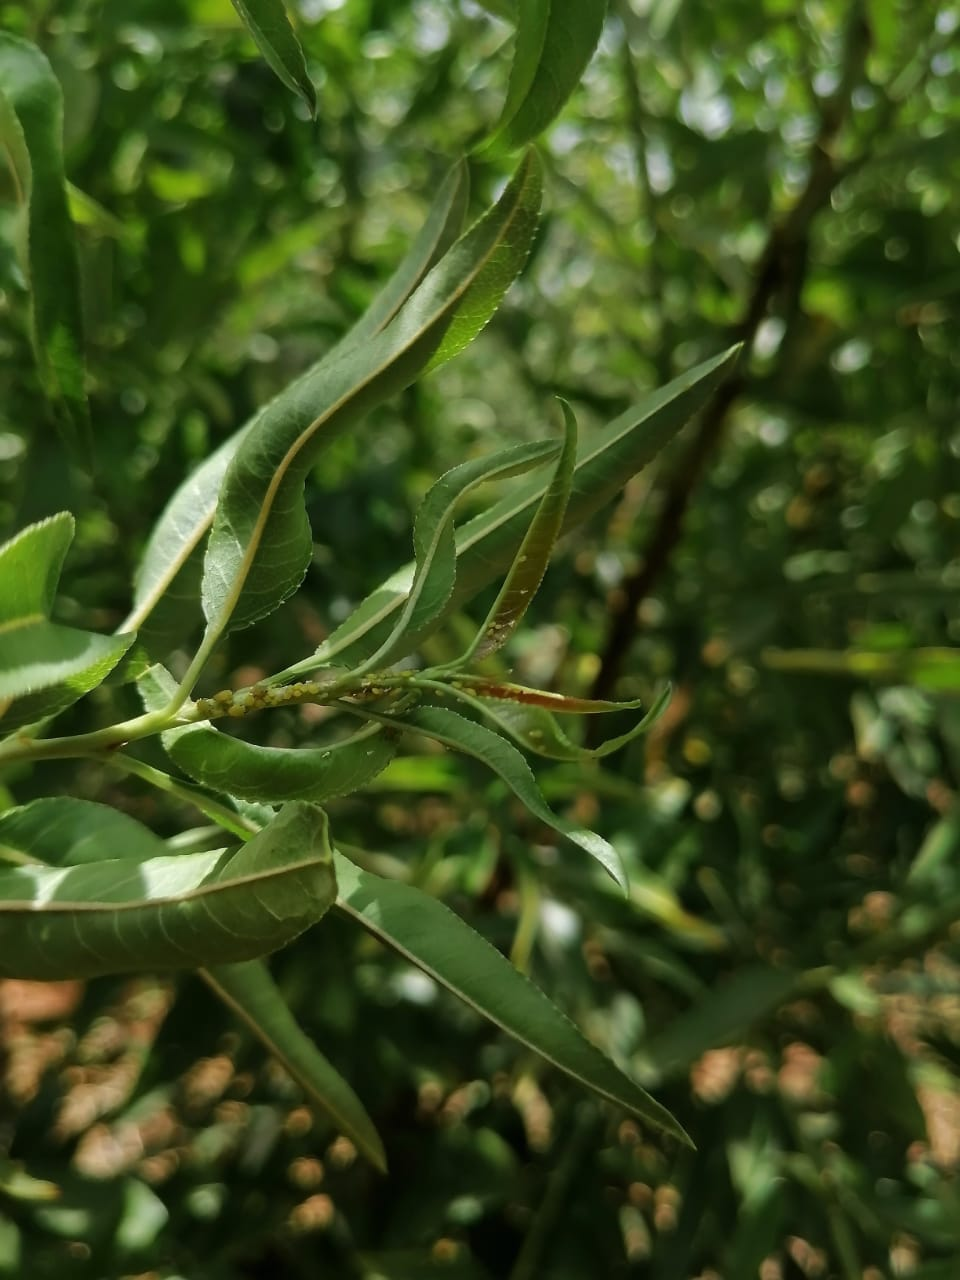chancre fusicocum: (288, 672, 494, 1141)
